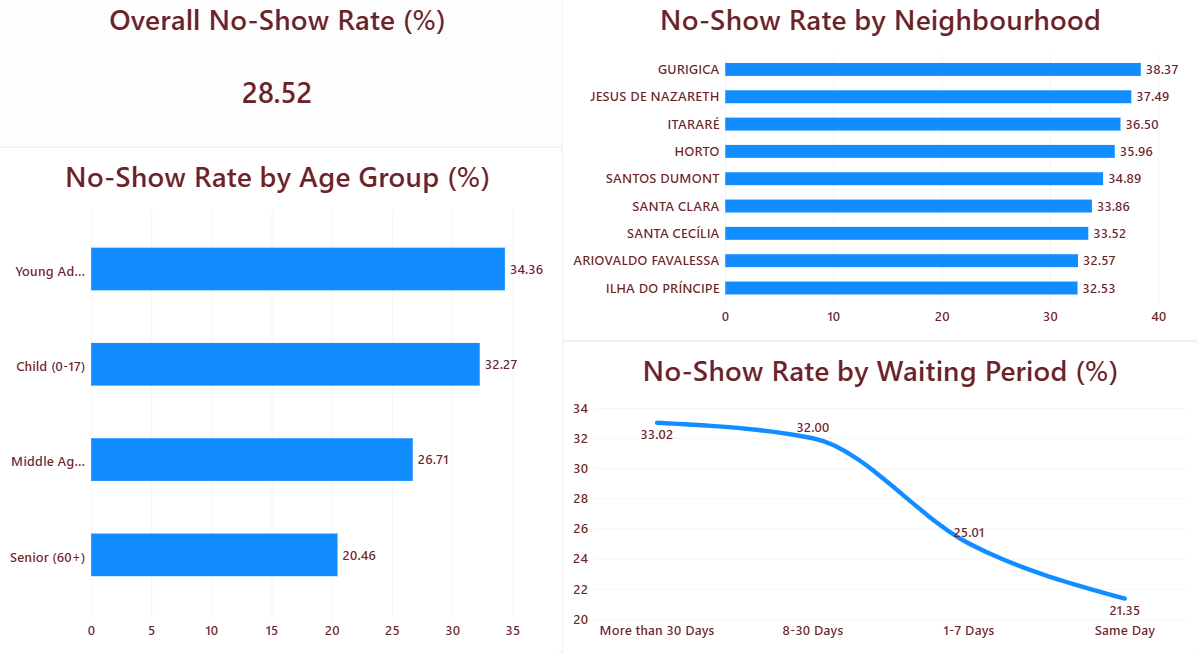

The dashboard page shown, as its layout file describes it:
{"tool":"powerbi","page":{"name":"No-show Findings","canvas":[1920,1080],"ordinal":0},"visuals":[{"type":"card","title":"Overall No-Show Rate (%)","fields":{"Values":["noshowappointments_cleaned.No-Show Rate"]},"box":[0,0,907.1,250],"z":0},{"type":"clusteredBarChart","title":"No-Show Rate by Age Group (%)","fields":{"Category":["noshowappointments_cleaned.Age_Group"],"Y":["noshowappointments_cleaned.No-Show Rate"]},"box":[0,250,907.1,804.8],"z":1000},{"type":"lineChart","title":"No-Show Rate by Waiting Period (%)","fields":{"Category":["noshowappointments_cleaned.Waiting_Period"],"Y":["noshowappointments_cleaned.No-Show Rate"]},"box":[907.1,557.1,1011.9,497.6],"z":2000},{"type":"clusteredBarChart","title":"No-Show Rate by Neighbourhood","fields":{"Category":["noshowappointments_cleaned.neighbourhood"],"Y":["noshowappointments_cleaned.No-Show Rate"]},"box":[907.1,0,1011.9,557.1],"z":3000}]}

Visuals, with their boxes on the page's 1920x1080 design canvas (x1, y1, x2, y2). These are canvas units, not pixel positions in the 1197x653 screenshot, which may show the page scaled, cropped or inside an application window:
"Overall No-Show Rate (%)" card: Rect(0, 0, 907, 250)
"No-Show Rate by Age Group (%)" clusteredBarChart: Rect(0, 250, 907, 1055)
"No-Show Rate by Waiting Period (%)" lineChart: Rect(907, 557, 1919, 1055)
"No-Show Rate by Neighbourhood" clusteredBarChart: Rect(907, 0, 1919, 557)
